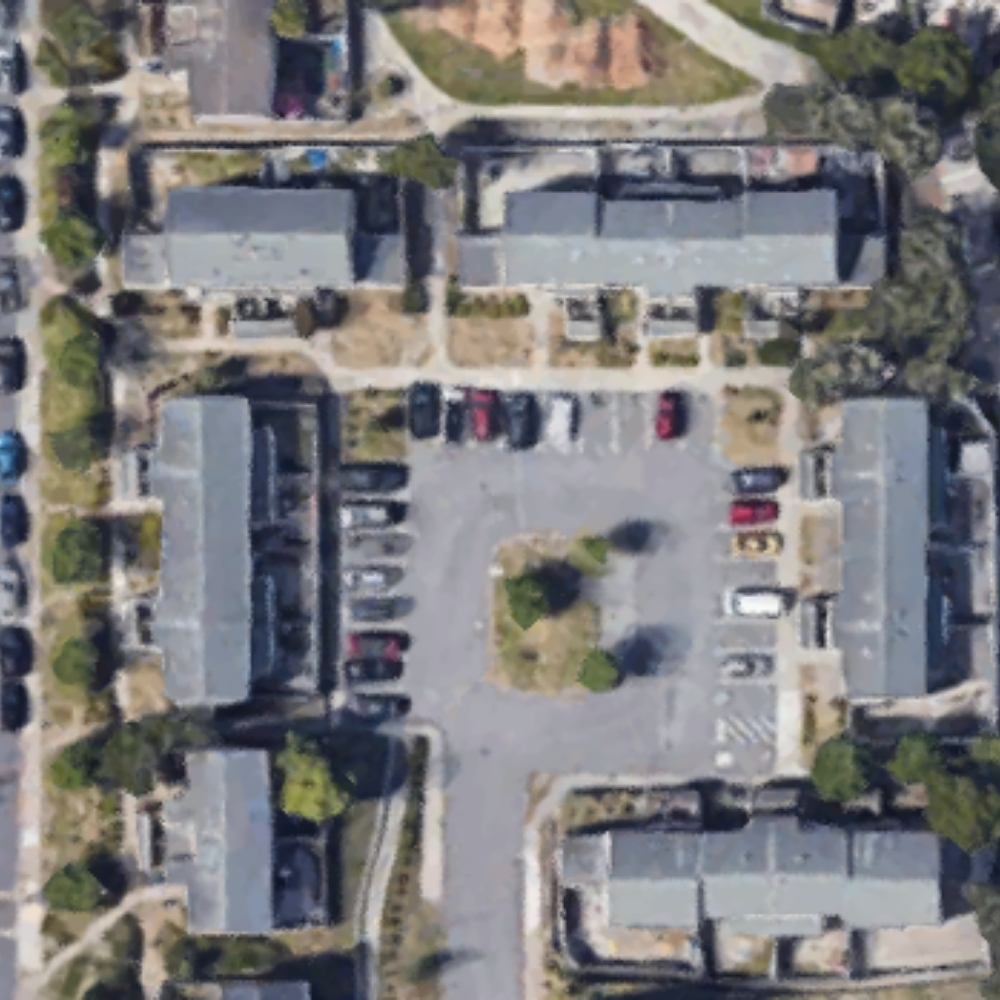parking: (325, 390, 775, 780)
